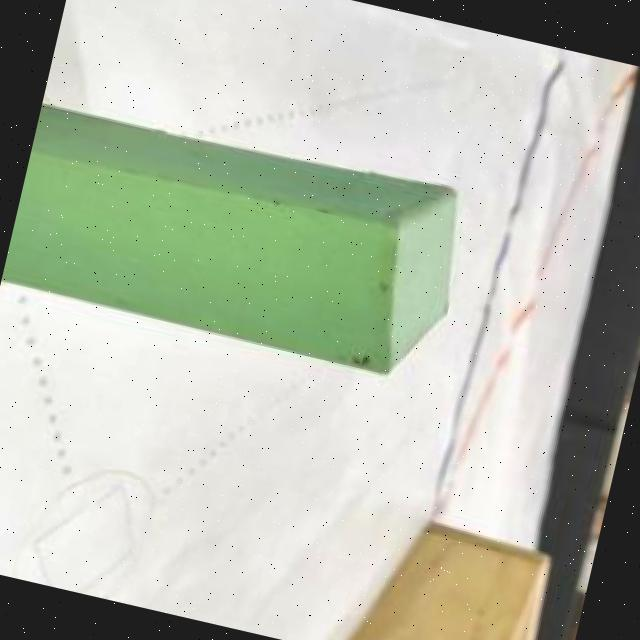greenbox: (0, 93, 481, 396)
